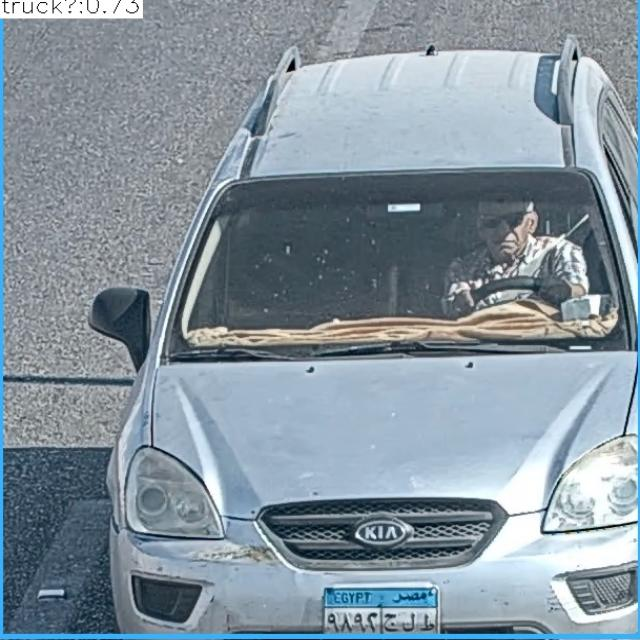windshield: (174, 175, 615, 350)
